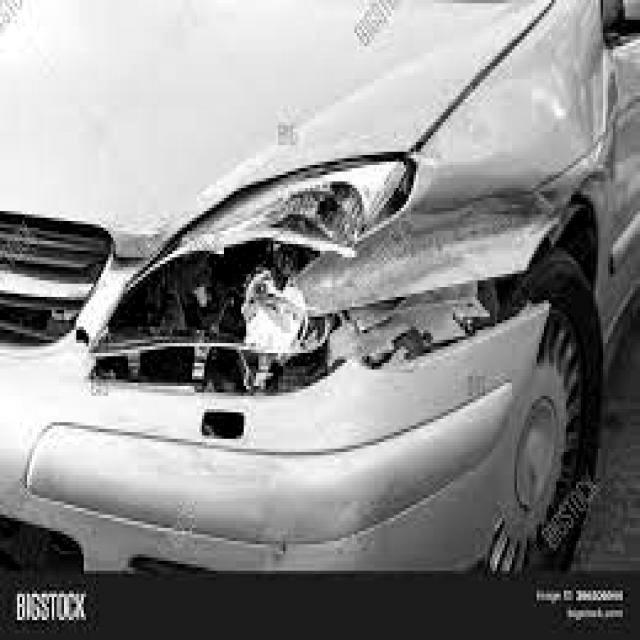Headlight-damage: (71, 110, 575, 407)
